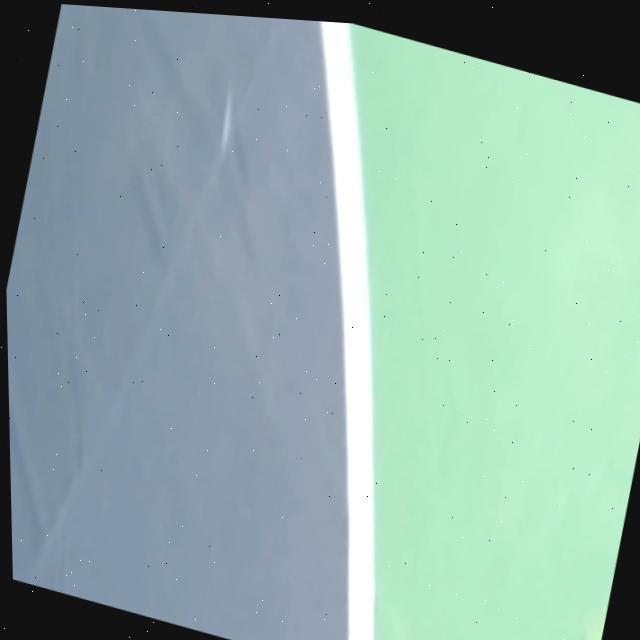right: (319, 21, 372, 640)
